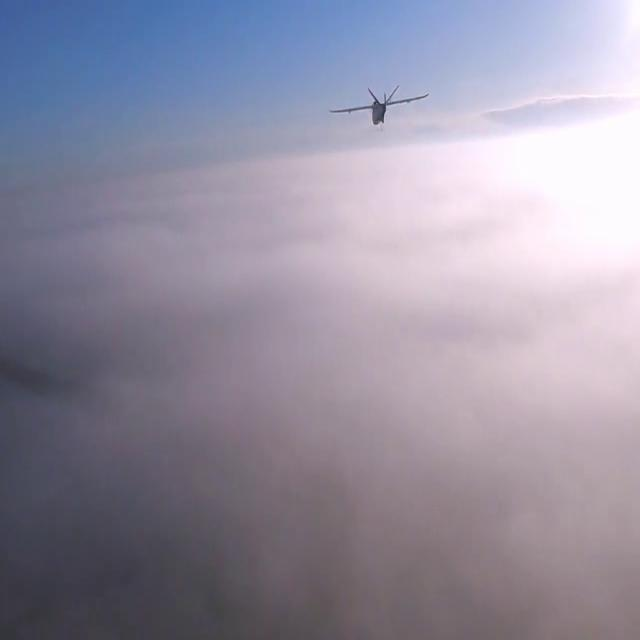iha: (363, 21, 396, 63)
